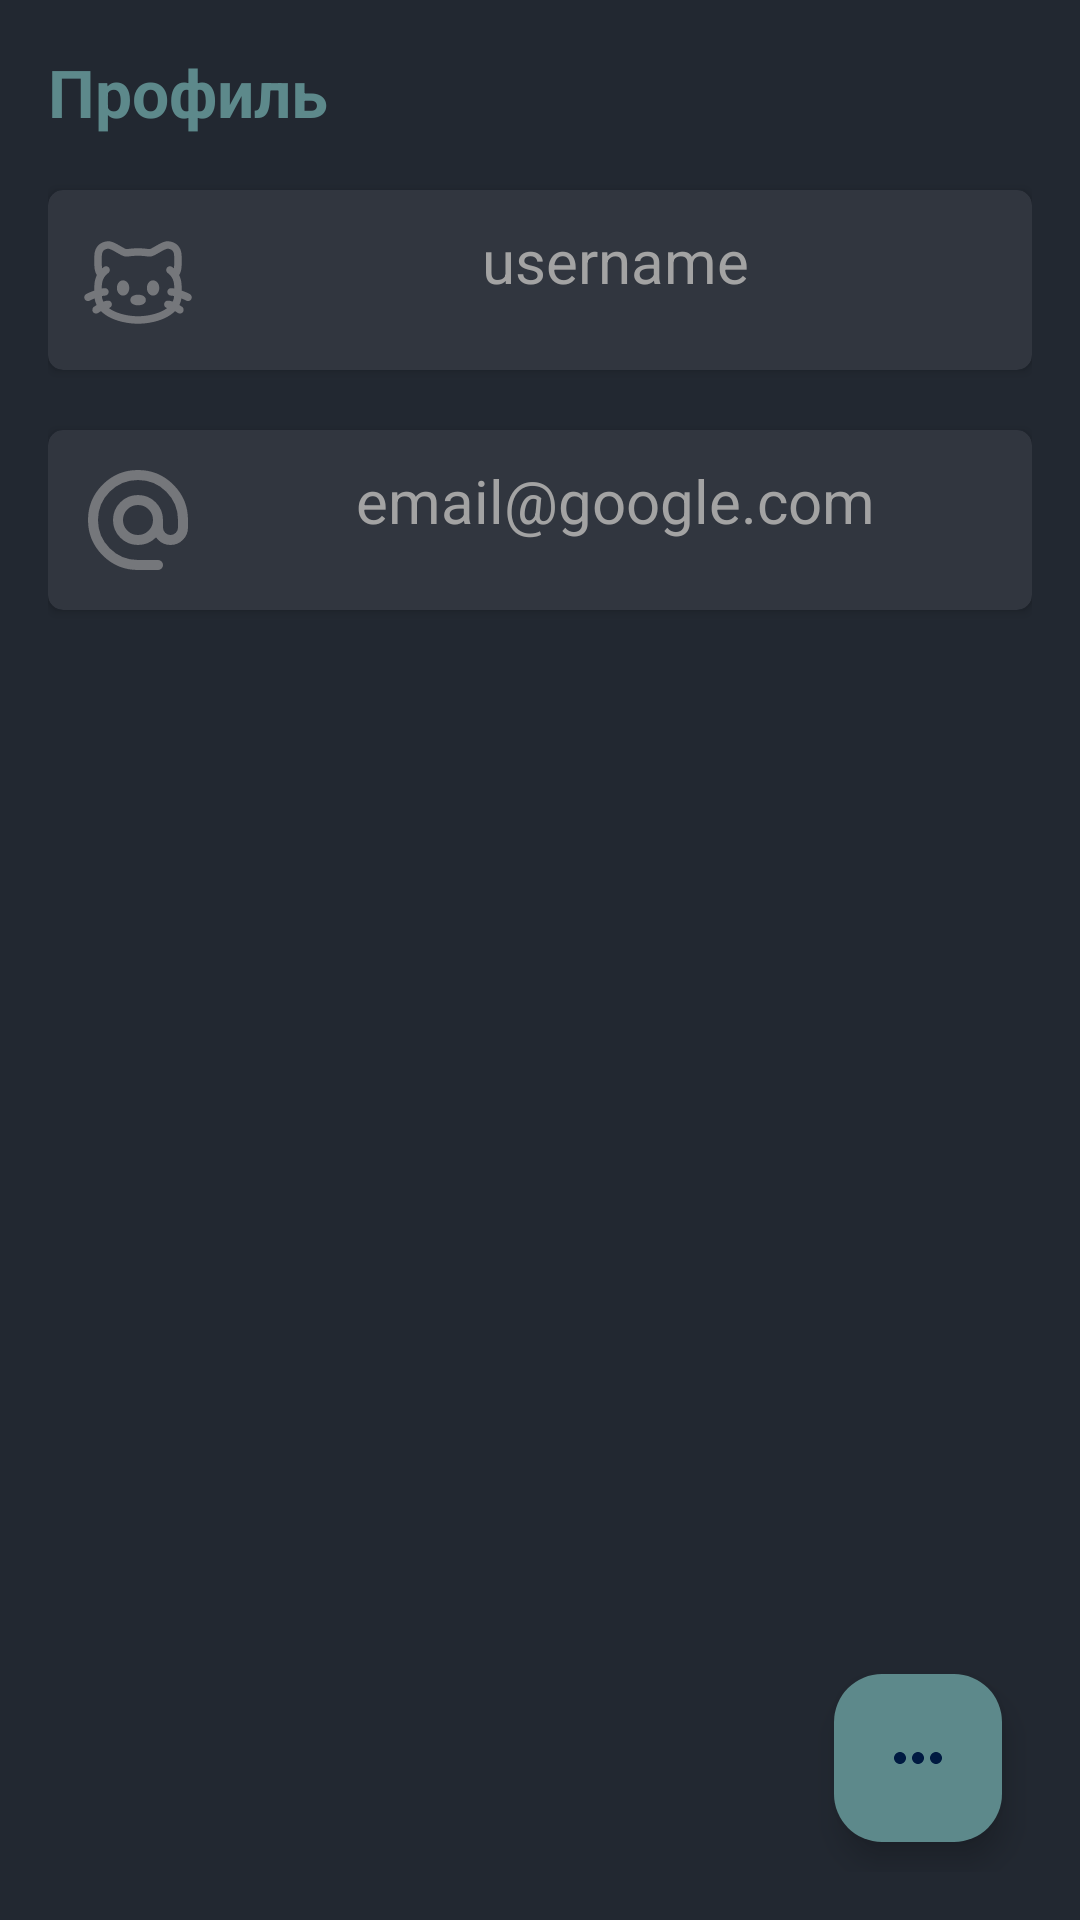

Icon bounding boxes for this 1080 × 1920 phone screenshot, format bbox=(x1, y1, x2, y2):
cat: bbox=(84, 241, 192, 324)
Options: bbox=(834, 1674, 1002, 1842)
